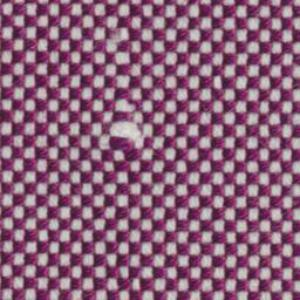defect: (99, 26, 142, 155)
